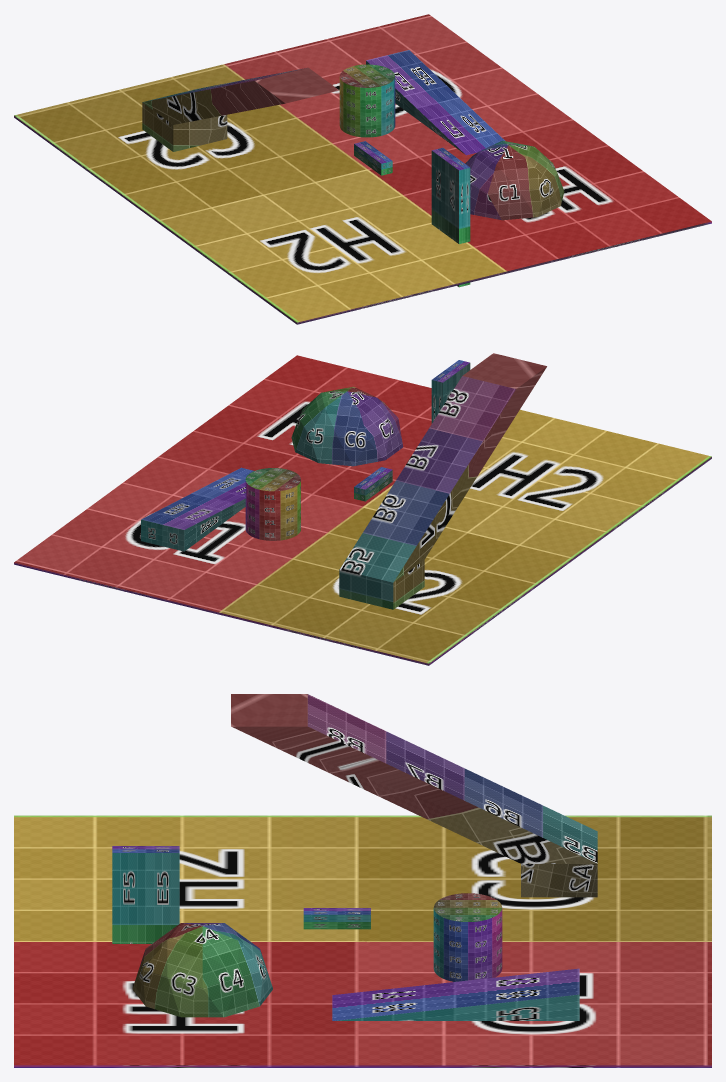
The model's file is scene_modular.gltf.
3 renders of one model, top to bottom at view 1: azimuth 30°, elevation 25°; view 2: azimuth 150°, elevation 25°; view 3: azimuth 270°, elevation 25°, orthographic. The views are drawn at different scales.
Parts seen in each view (by area): view 1: Cube, Cube.002, Icosphere, Cube.001, Cylinder, longboi, rectboi; view 2: Cube, Cube.002, Icosphere, Cube.001, Cylinder, longboi, rectboi; view 3: Cube, Cube.002, Icosphere, Cube.001, longboi, Cylinder, rectboi.
Part boxes in pixels (x1=…): Cube: x1=14, y1=14, x2=711, y2=324; Cube.002: x1=142, y1=67, x2=339, y2=151; Icosphere: x1=465, y1=140, x2=564, y2=220; Cube.001: x1=366, y1=50, x2=504, y2=155; Cylinder: x1=339, y1=64, x2=395, y2=137; longboi: x1=431, y1=147, x2=470, y2=287; rectboi: x1=354, y1=141, x2=392, y2=175; Cube: x1=14, y1=355, x2=711, y2=665; Cube.002: x1=339, y1=353, x2=546, y2=609; Icosphere: x1=291, y1=386, x2=403, y2=466; Cube.001: x1=141, y1=467, x2=253, y2=551; Cylinder: x1=245, y1=468, x2=300, y2=540; longboi: x1=431, y1=360, x2=470, y2=423; rectboi: x1=354, y1=467, x2=392, y2=501; Cube: x1=14, y1=815, x2=711, y2=1067; Cube.002: x1=231, y1=694, x2=597, y2=897; Icosphere: x1=132, y1=923, x2=272, y2=1017; Cube.001: x1=332, y1=968, x2=579, y2=1020; longboi: x1=112, y1=846, x2=179, y2=943; Cylinder: x1=433, y1=893, x2=502, y2=981; rectboi: x1=303, y1=908, x2=370, y2=929.
Bounding box in the file's own units: 408 × 178 × 482.
Materials: 1 (1 with a texture image).
